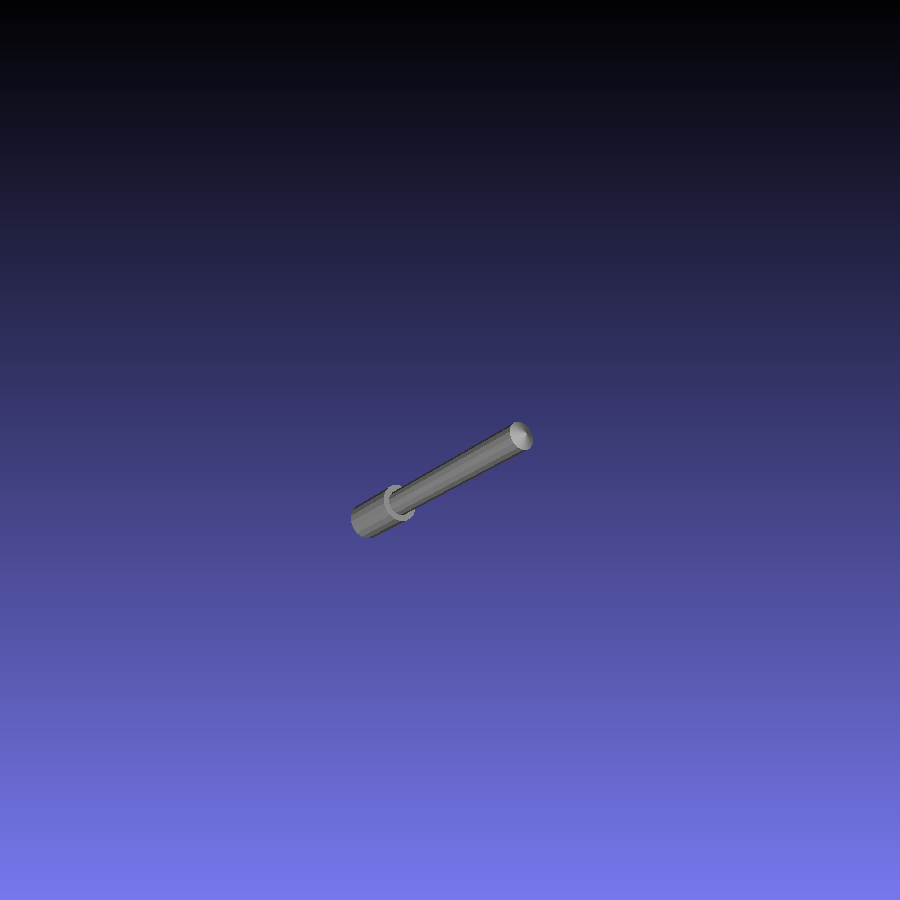cargo_g: (350, 420, 532, 539)
